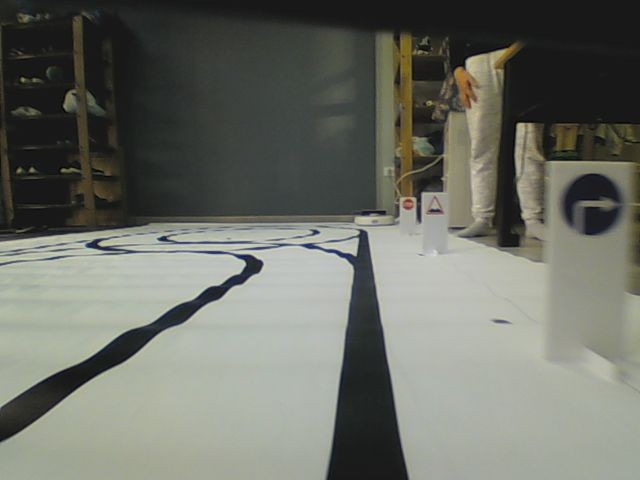Nerov: (425, 194, 445, 217)
Right: (561, 171, 622, 237)
